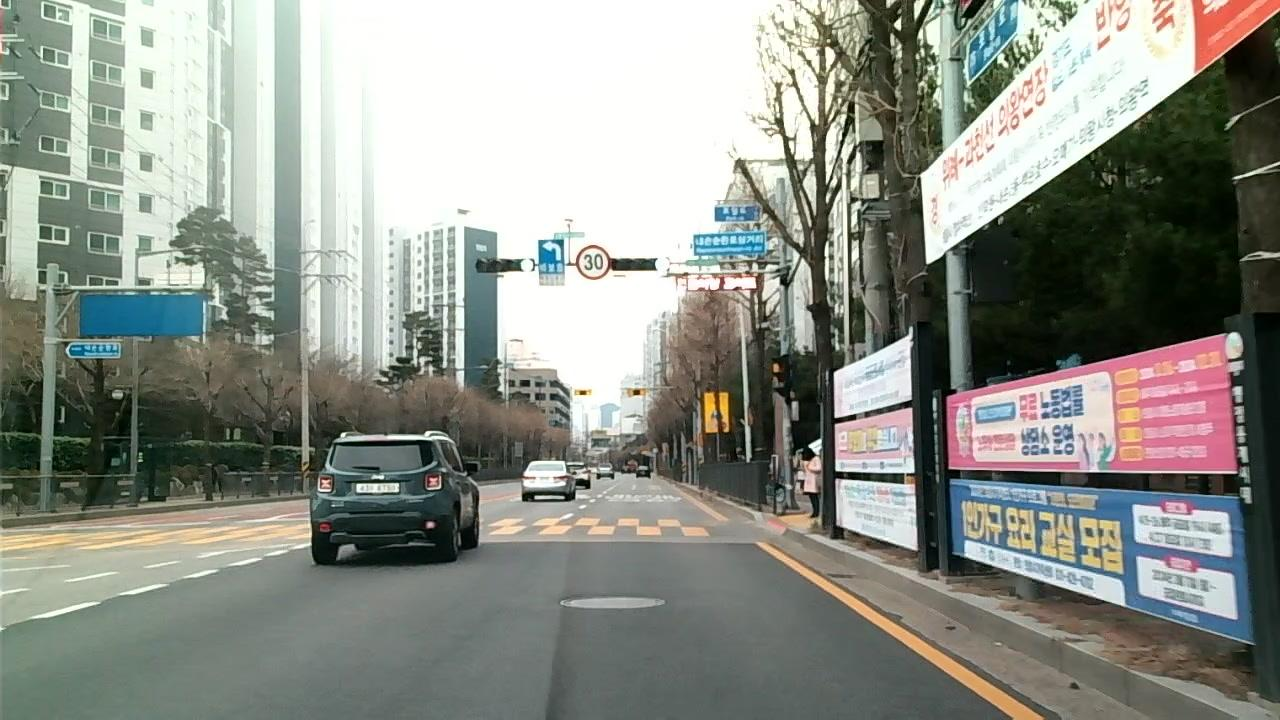banner: (880, 1, 1276, 245), (934, 473, 1256, 643), (937, 333, 1242, 480), (817, 329, 914, 414), (831, 477, 923, 552), (823, 408, 918, 476)
